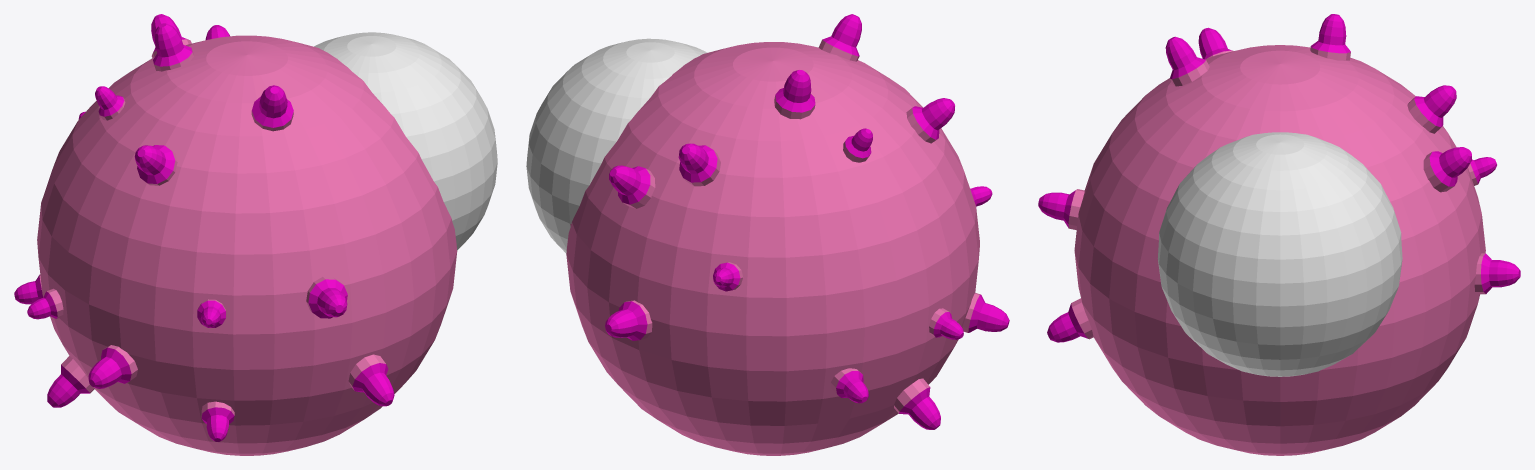
File: Anticor_1.fbx
3 views of the same model, side by side, from view 1: azimuth 30°, elevation 25°; view 2: azimuth 150°, elevation 25°; view 3: azimuth 270°, elevation 25° (orthographic). The views are drawn at different scales.
Parts seen in each view (by area): view 1: Anticor1; view 2: Anticor1; view 3: Anticor1.
Boxes of the visible parts, x1=… form: Anticor1: x1=14, y1=14, x2=497, y2=455; Anticor1: x1=526, y1=14, x2=1009, y2=455; Anticor1: x1=1038, y1=14, x2=1520, y2=455.
Size of the model in its own units: 241 by 212 by 235.
